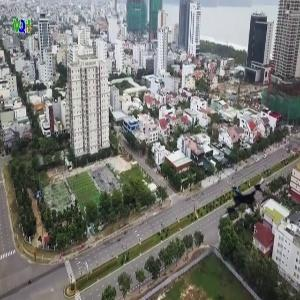drone: (206, 163, 270, 227)
